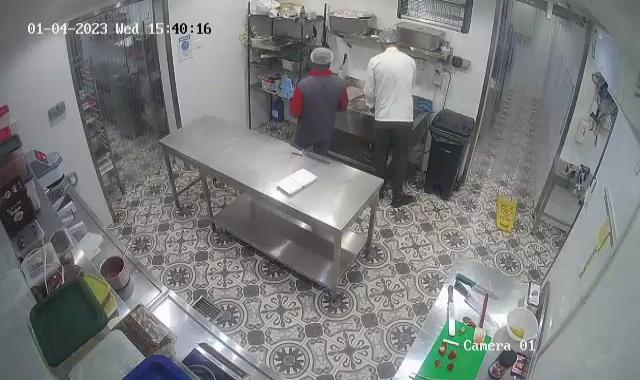hairnet: (312, 48, 334, 70), (377, 27, 398, 44)
